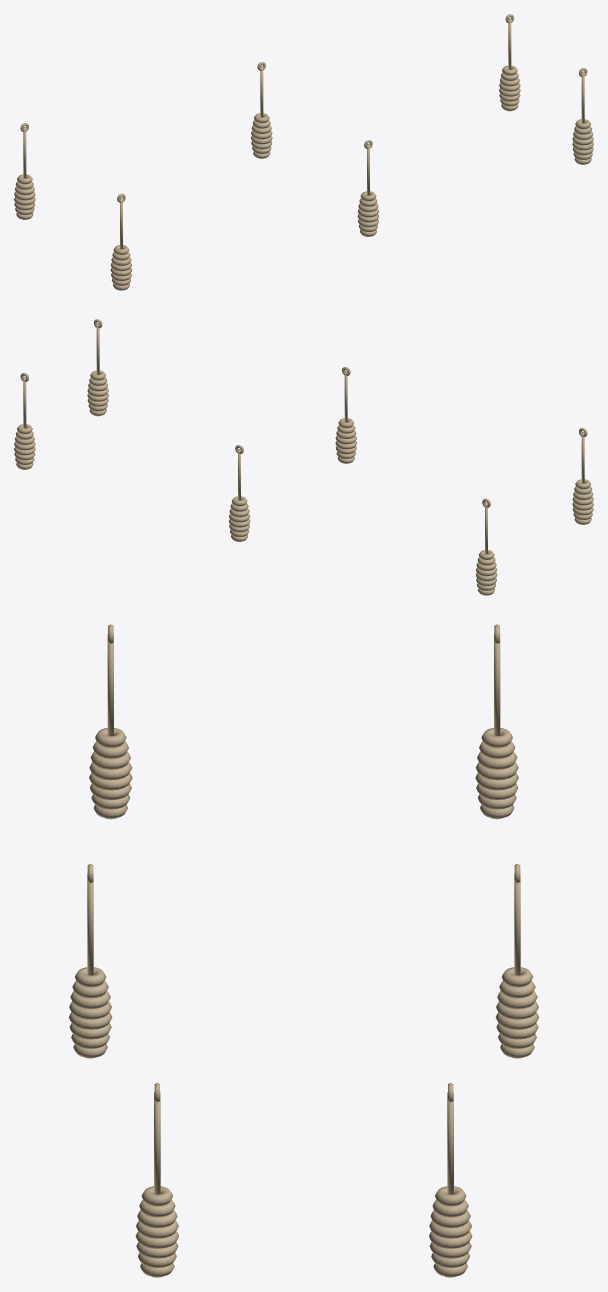
The model's file is fenders.glb.
3 views of the same model, one above another, from view 1: azimuth 30°, elevation 25°; view 2: azimuth 150°, elevation 25°; view 3: azimuth 270°, elevation 25° (orthographic). The views are drawn at different scales.
Parts seen in each view (by area): view 1: Fenders; view 2: Fenders; view 3: Fenders.
Part boxes in pixels (x1,y1,x2,y2): Fenders: (14,14,593,290); Fenders: (14,319,593,595); Fenders: (69,624,538,1277).
Bounding box in the file's own units: 4.68 × 0.8969 × 1.94.
